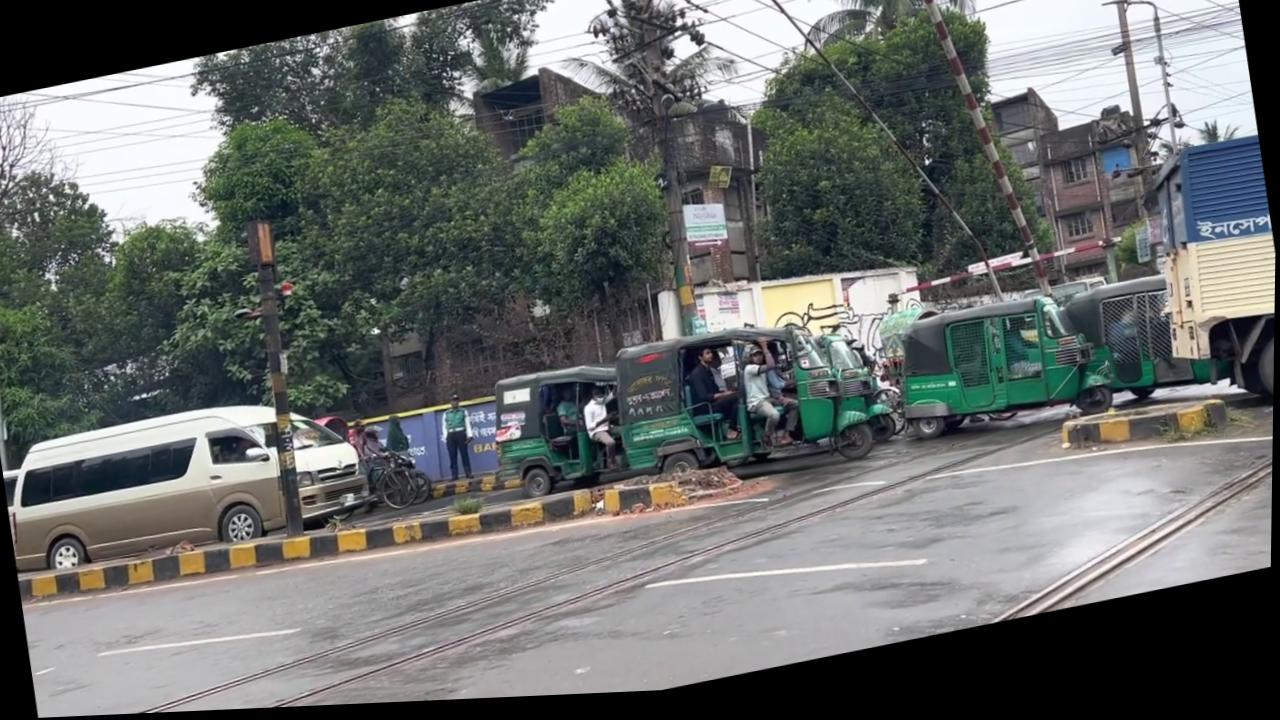Bollard: (0, 353, 404, 622)
Car: (23, 441, 739, 638)
Fence: (737, 345, 803, 459), (682, 348, 749, 454), (580, 387, 629, 481), (436, 395, 479, 487)
Garbage: (884, 0, 1058, 327), (237, 217, 319, 543)
Rickshaw: (1042, 140, 1278, 456)
